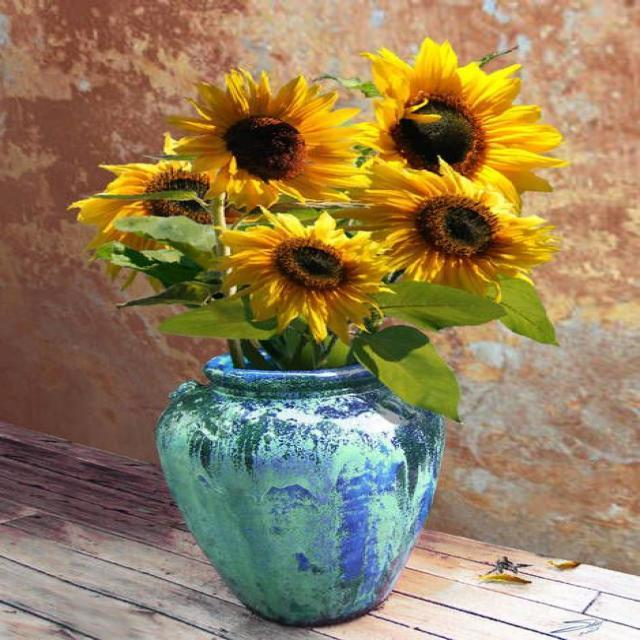sunflower: (349, 36, 569, 214), (330, 154, 560, 304), (166, 67, 373, 213), (215, 204, 395, 345), (65, 156, 236, 292)
